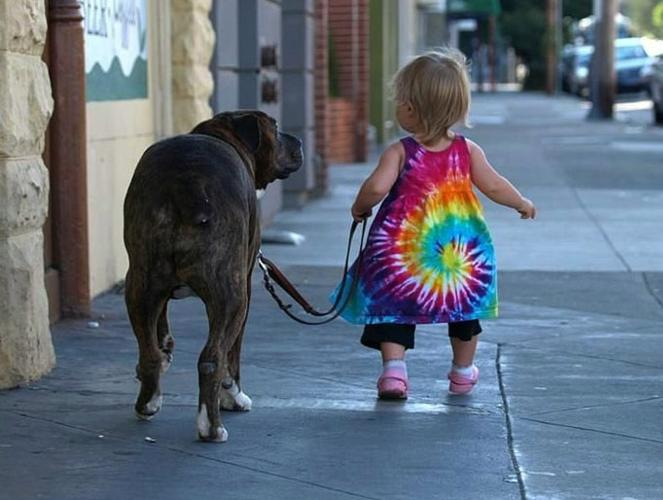person: (352, 54, 535, 401)
